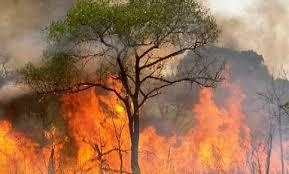fire: (20, 69, 232, 174)
